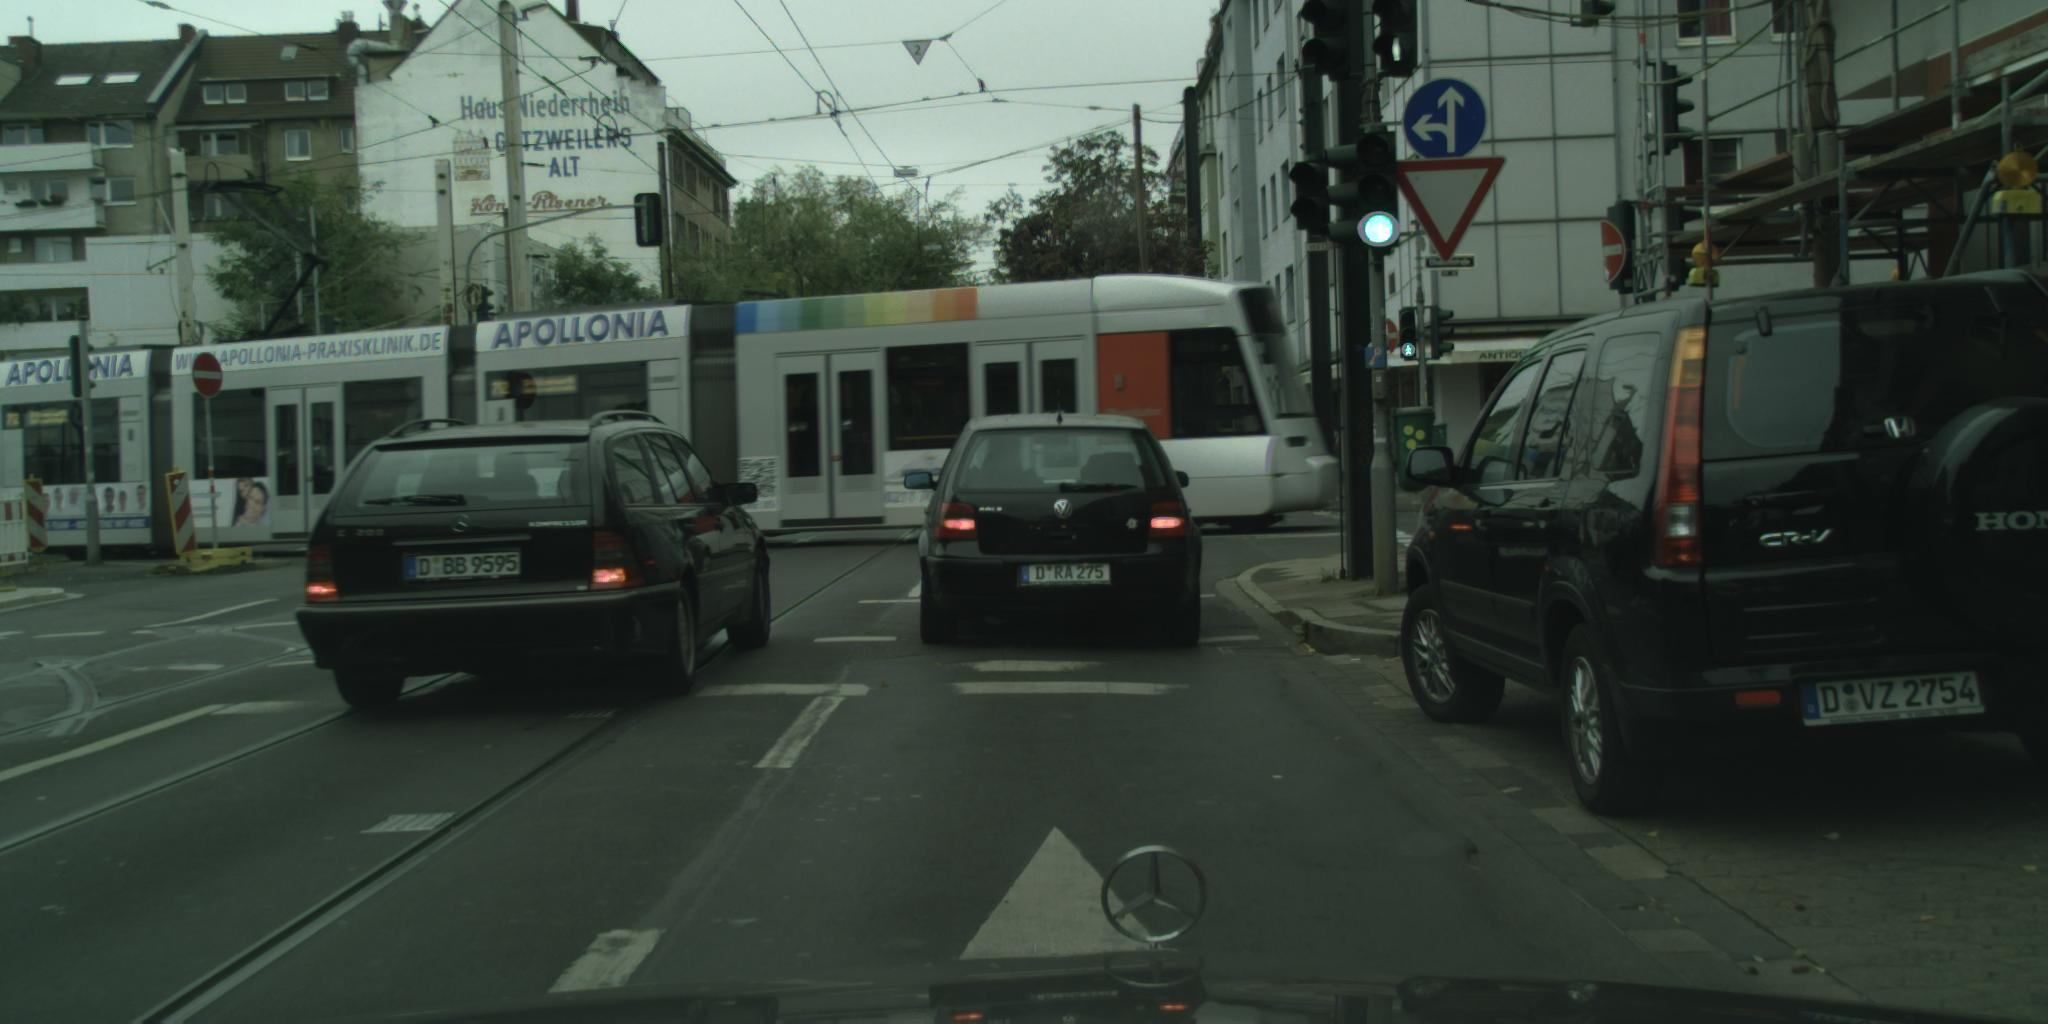car: (1401, 270, 2048, 818), (294, 410, 772, 708), (904, 411, 1204, 650)
train: (1, 274, 1340, 562)
